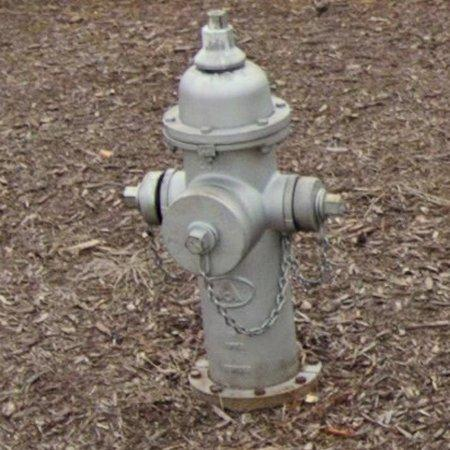a fire hydrant: (123, 10, 346, 410)
